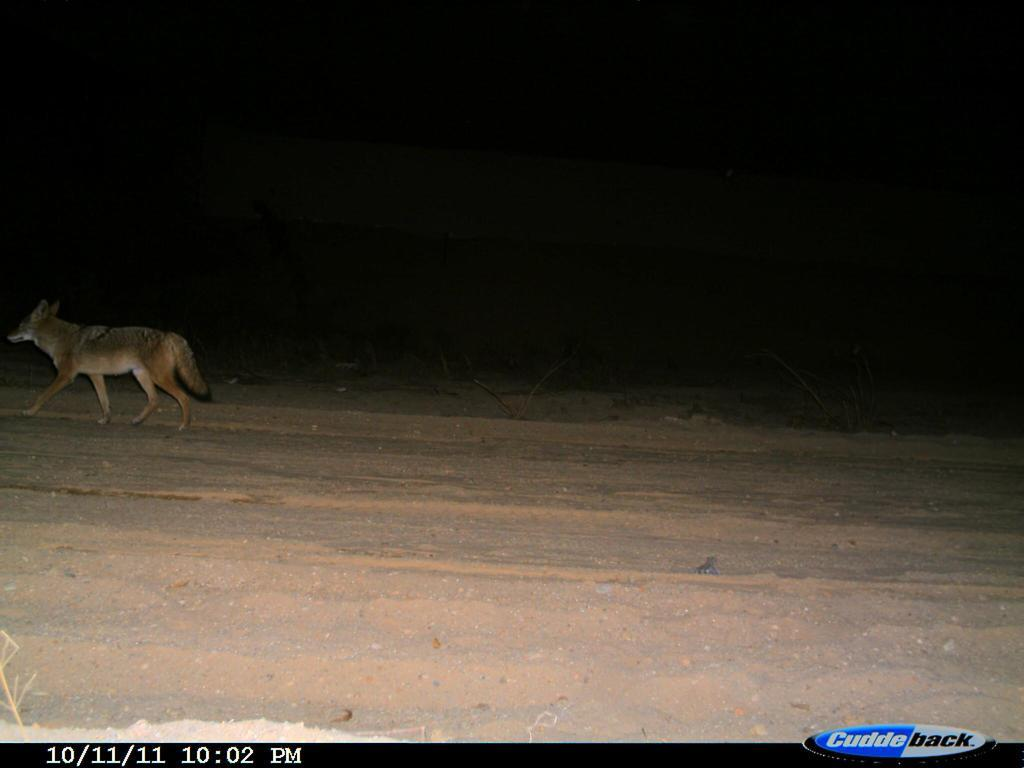coyote: (7, 296, 219, 440)
